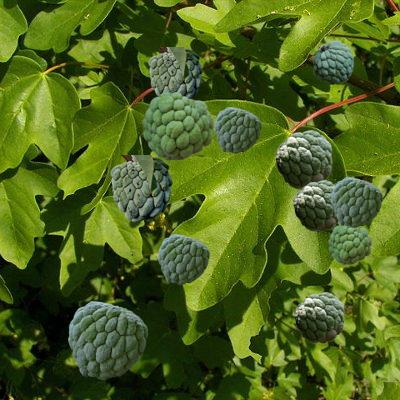atis: (110, 155, 204, 221), (68, 301, 146, 378), (142, 92, 212, 159), (148, 47, 230, 97), (275, 130, 331, 188), (294, 292, 343, 342), (331, 177, 381, 226), (158, 234, 208, 283), (293, 180, 337, 230), (214, 107, 260, 152), (313, 41, 352, 83), (328, 225, 370, 263)
